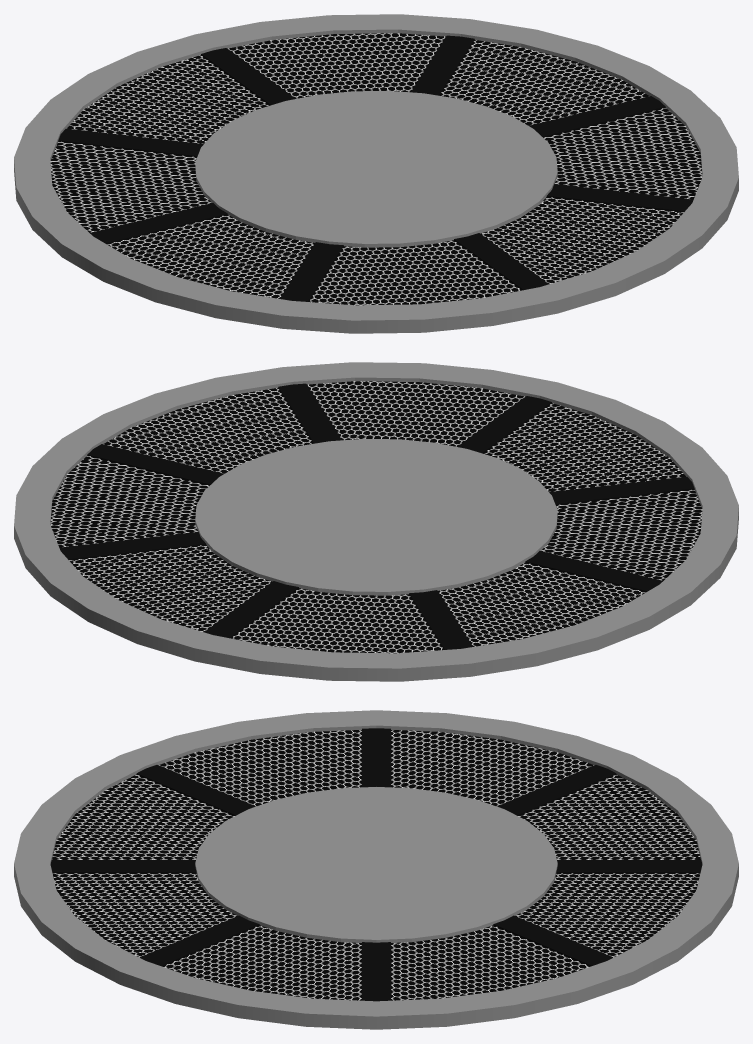
The model's file is SM_MapPlatform.FBX.
The picture shows the model from 3 angles, top to bottom: view 1: azimuth 30°, elevation 25°; view 2: azimuth 150°, elevation 25°; view 3: azimuth 270°, elevation 25°; orthographic projection.
Parts seen in each view (by area): view 1: Cylinder001; view 2: Cylinder001; view 3: Cylinder001.
Boxes of the visible parts, <box> form: Cylinder001: <box>14,14,738,333</box>; Cylinder001: <box>14,362,738,681</box>; Cylinder001: <box>14,710,738,1029</box>.
Size of the model in its own units: 100 by 2 by 100.
Materials: 3 (1 with a texture image).
